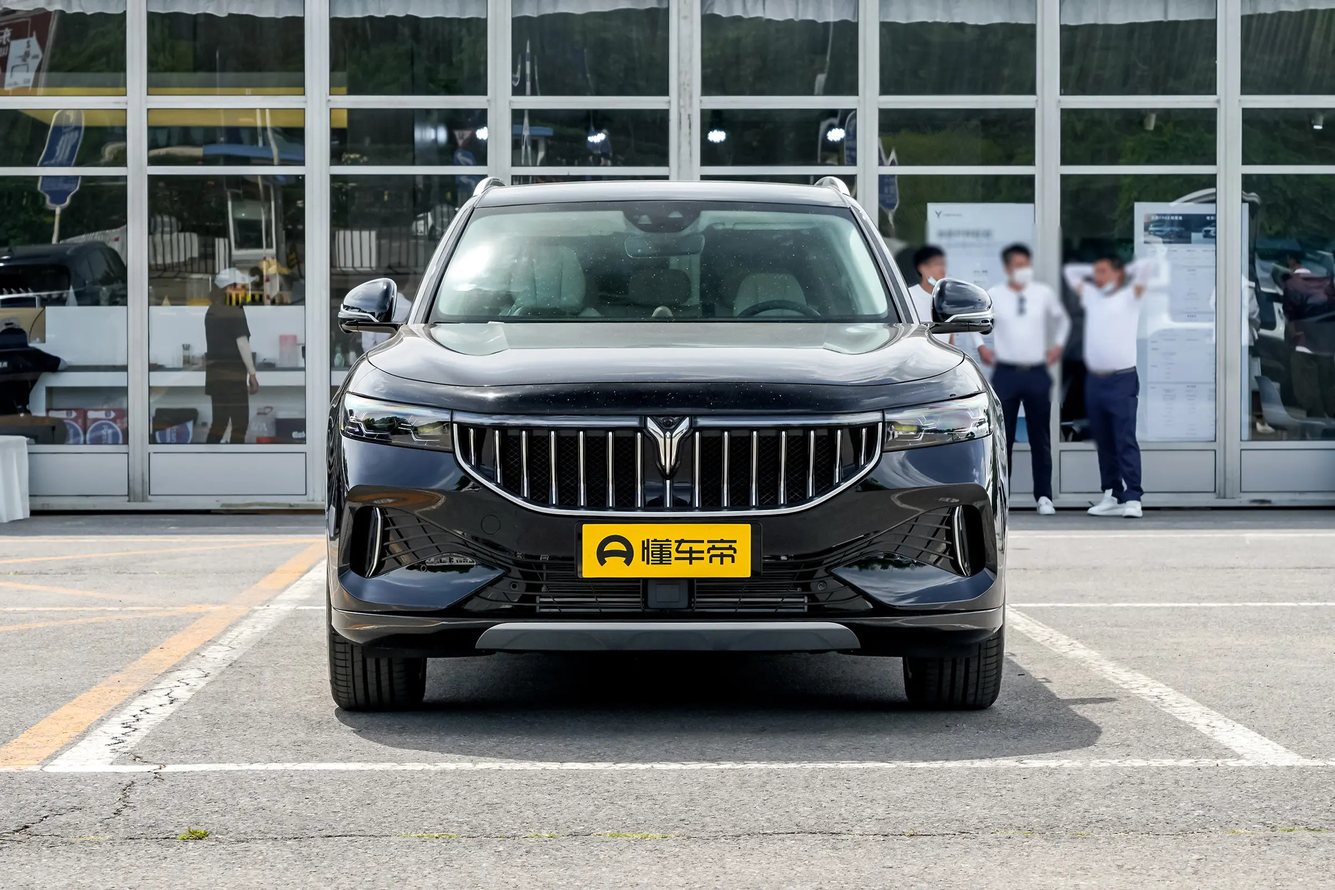VOYAH: (647, 417, 689, 475)
